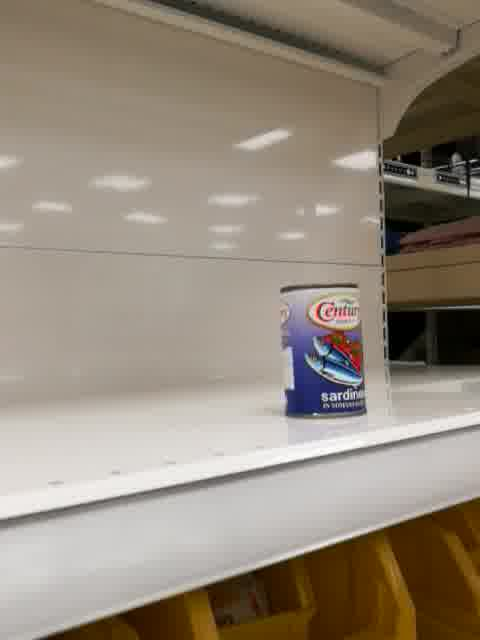sardine: (277, 282, 368, 421)
